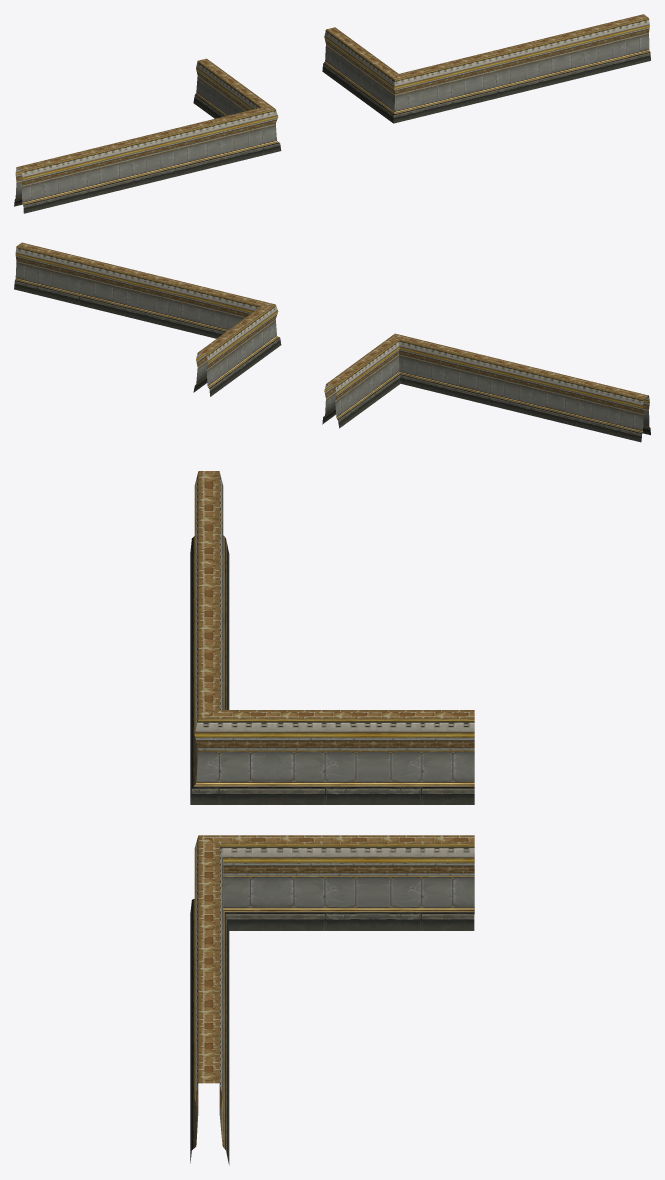
The model's file is DN_mchgwall.FBX.
3 renders of one model, top to bottom at view 1: azimuth 30°, elevation 25°; view 2: azimuth 150°, elevation 25°; view 3: azimuth 270°, elevation 25°, orthographic. The views are drawn at different scales.
Parts seen in each view (by area): view 1: DN_mchgwall; view 2: DN_mchgwall; view 3: DN_mchgwall.
Part boxes in pixels (bbox=[...]): DN_mchgwall: bbox=[14, 14, 650, 213]; DN_mchgwall: bbox=[14, 242, 650, 442]; DN_mchgwall: bbox=[190, 471, 474, 1165].
Size of the model in its own units: 7679 by 483 by 1508.
